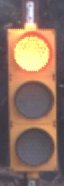Red: (3, 15, 63, 177)
